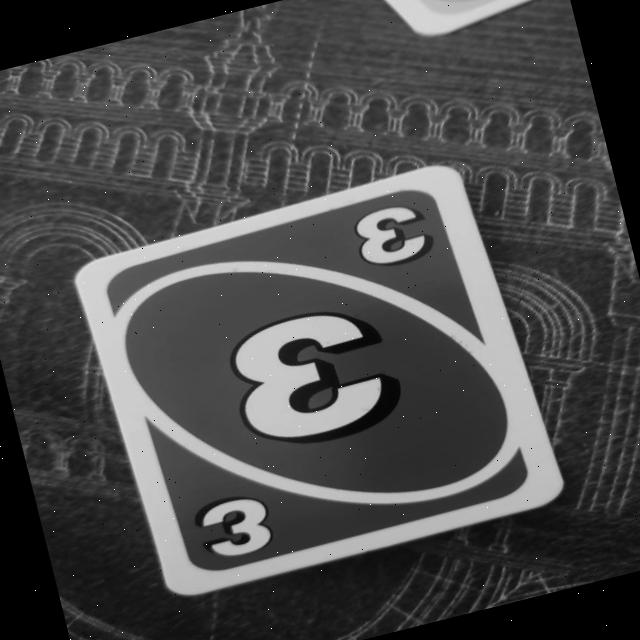card_3: (68, 150, 570, 606)
